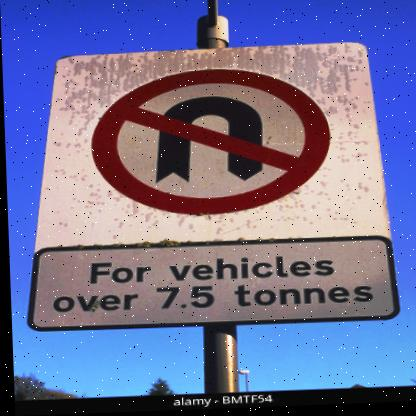No U-turn: (82, 62, 337, 220)
